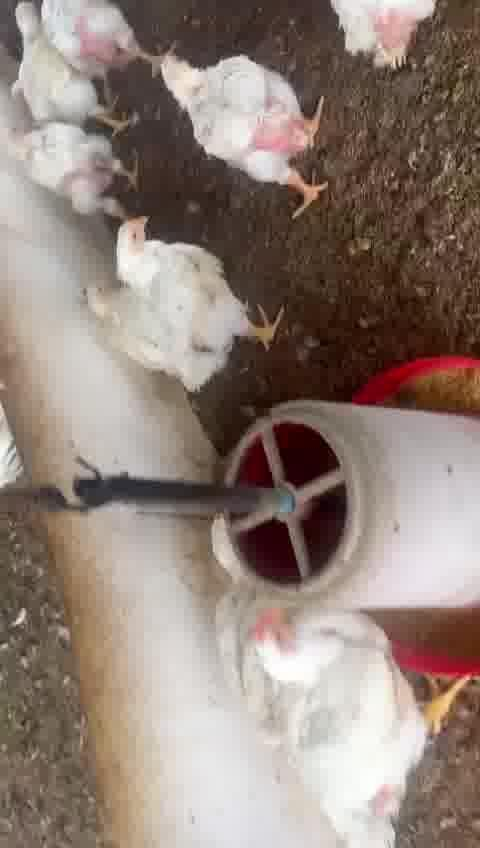Normal: (97, 217, 277, 386), (162, 54, 329, 208), (9, 0, 133, 144)
